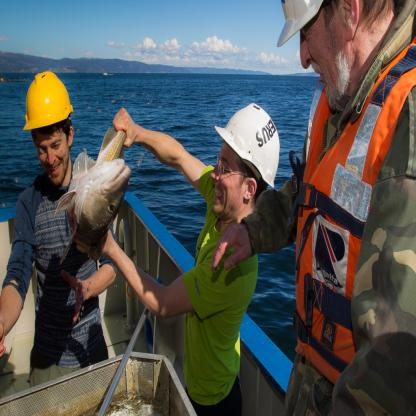Helmet: (214, 102, 278, 224)
